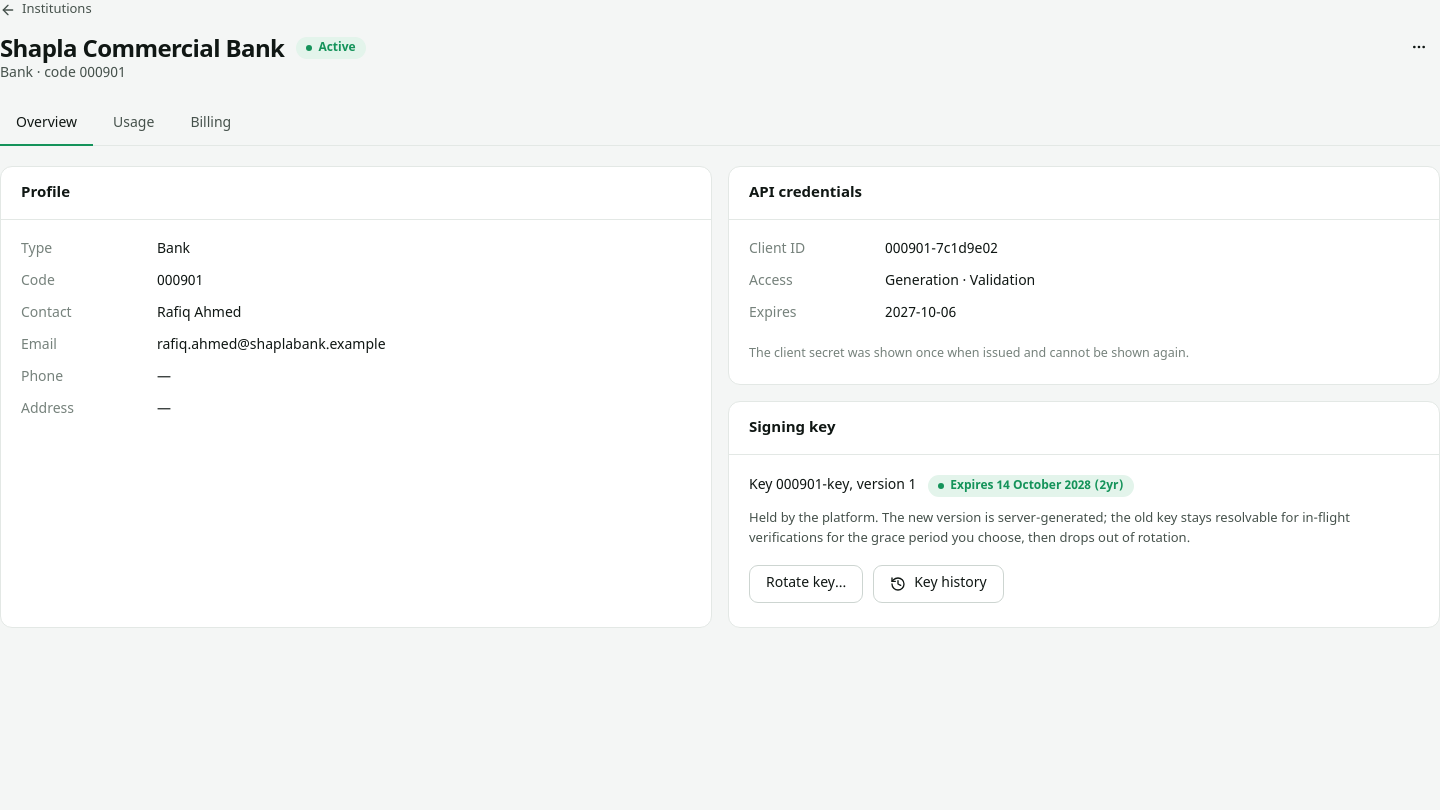
Test: institution detail › lists every key version in the history drawer, newest first, with older ones retired
Click the button "Rotate key…" at (806, 584), box [749,565,863,603]
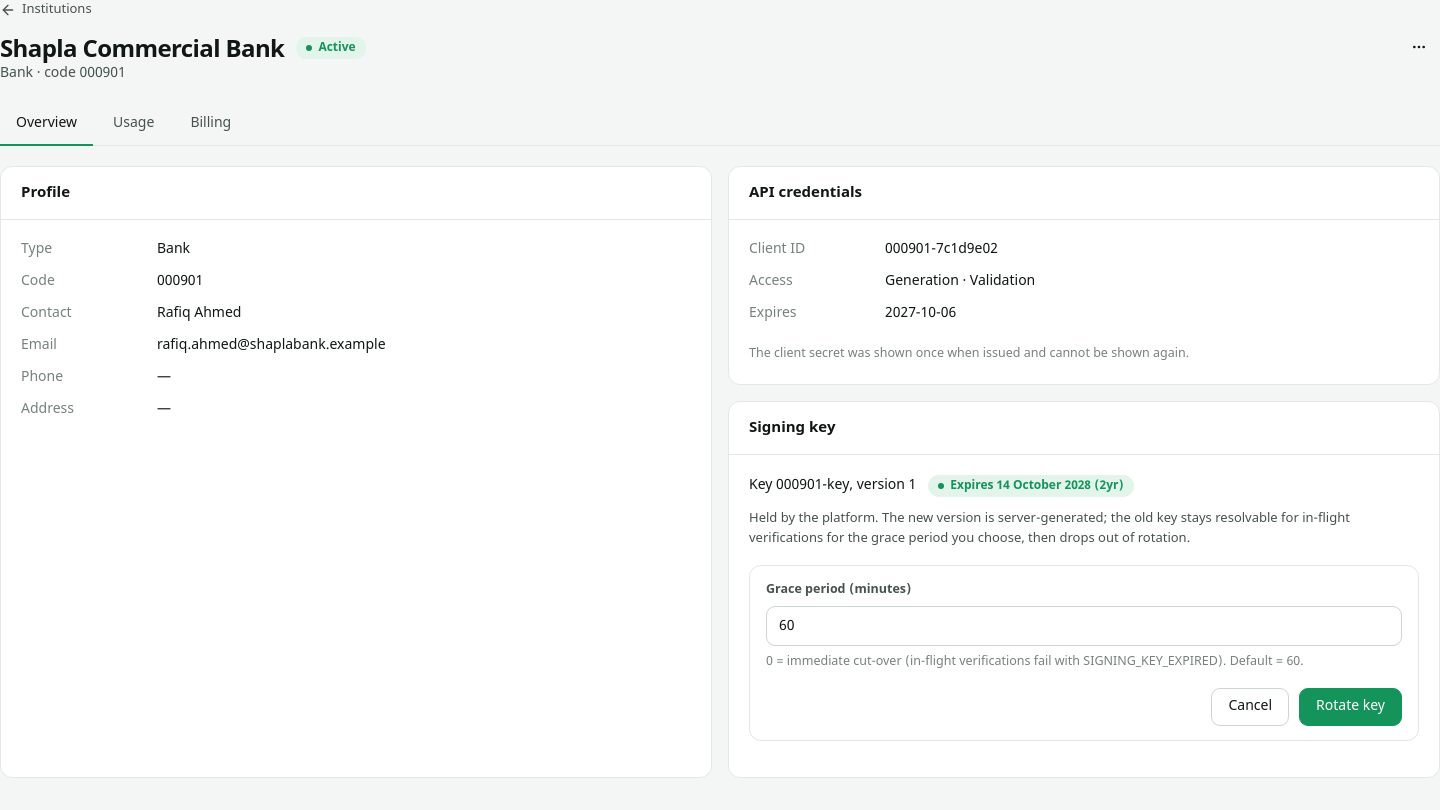
Click the button "Rotate key" at (1351, 707), box [1299,688,1402,726]
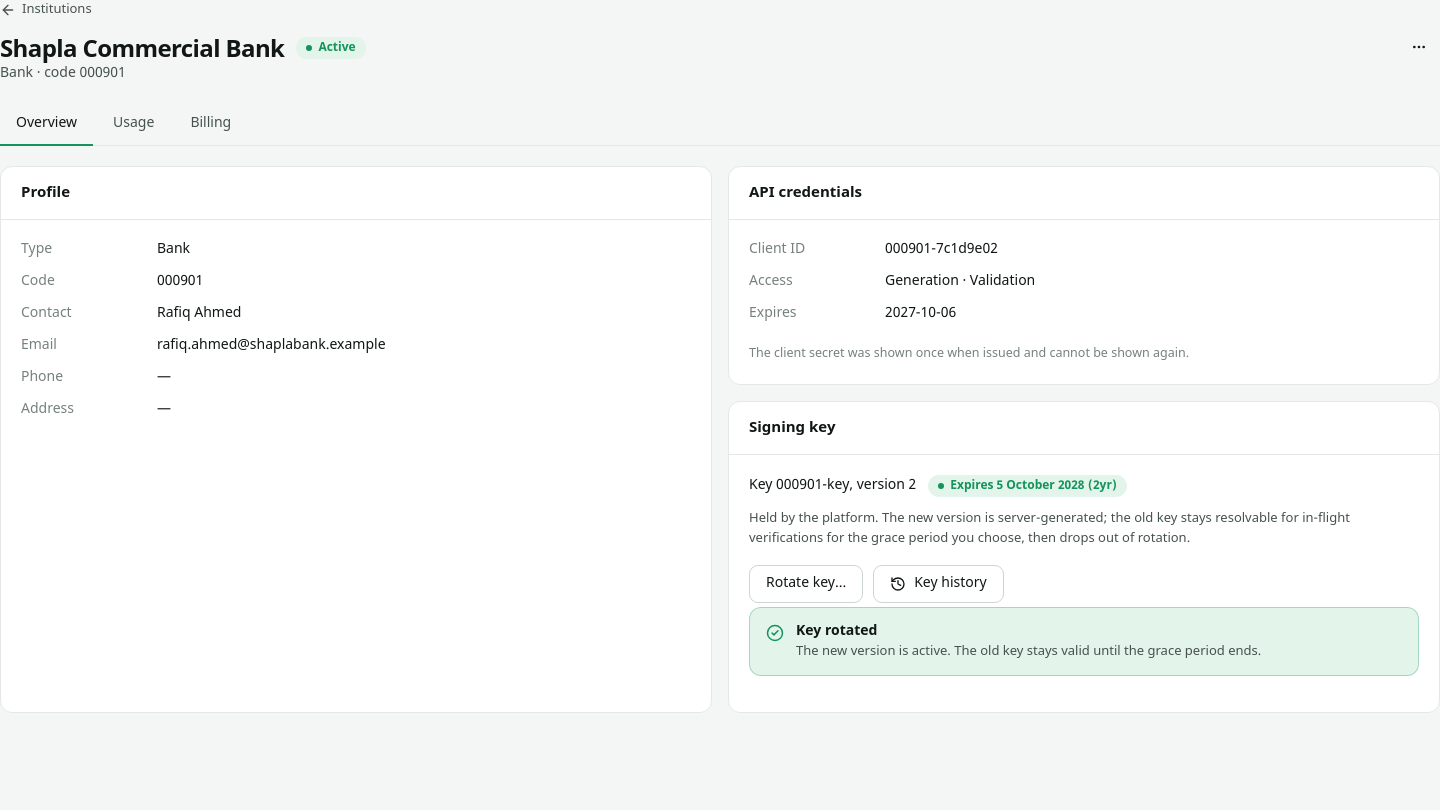
Expected: the element with test id "signing-key-summary" shows "version 2", [749,476,916,496]
Click the button "Key history" at (938, 584), box [873,565,1004,603]
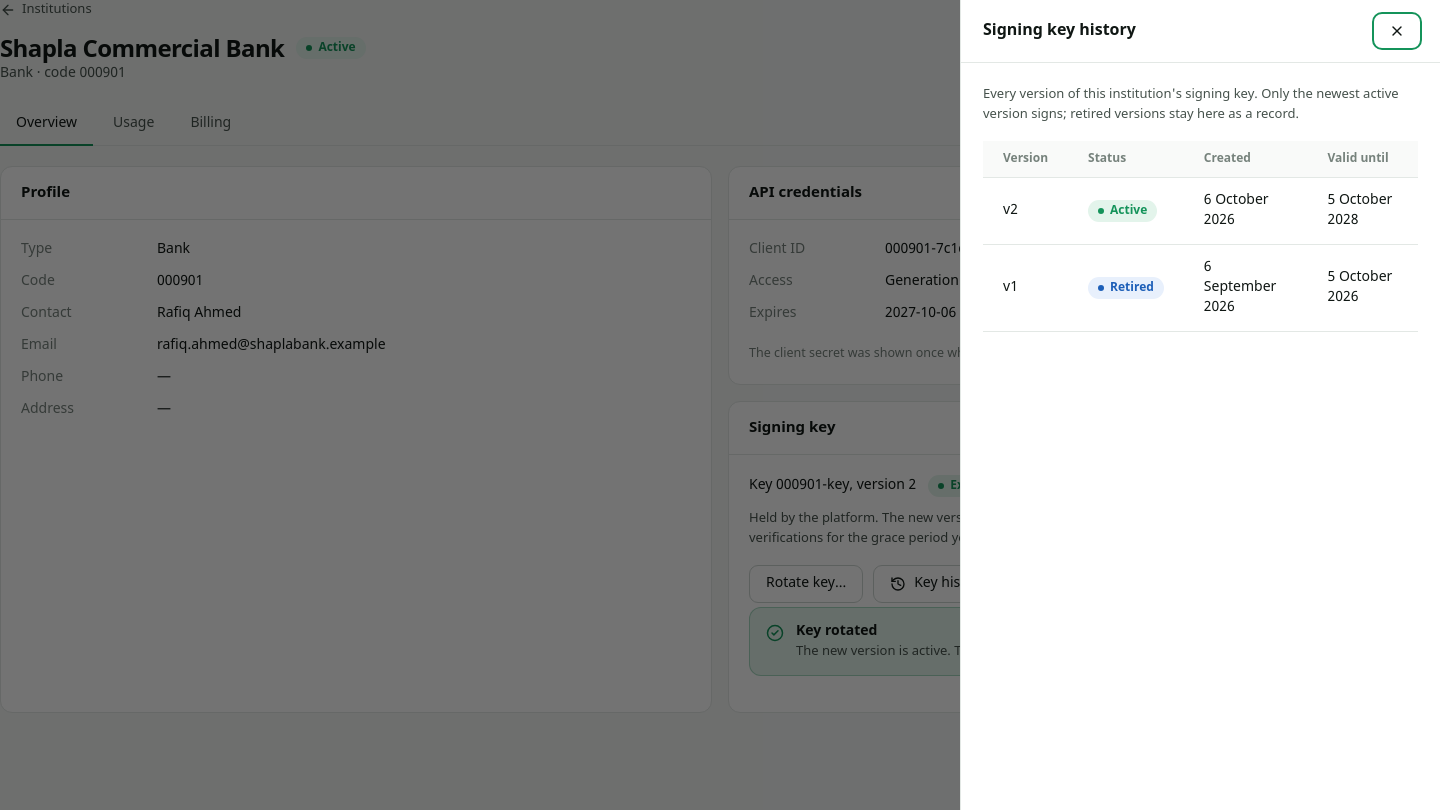
Expected: the number of rows is 3, [983,141,1418,178]; [983,178,1418,244]; [983,244,1418,332]
Expected: the row "v2 Active 6 October 2026 5 October 2028" is shown, [983,178,1418,244]
Expected: the row "v1 Retired 6 September 2026 5 October 2026" is shown, [983,244,1418,332]
